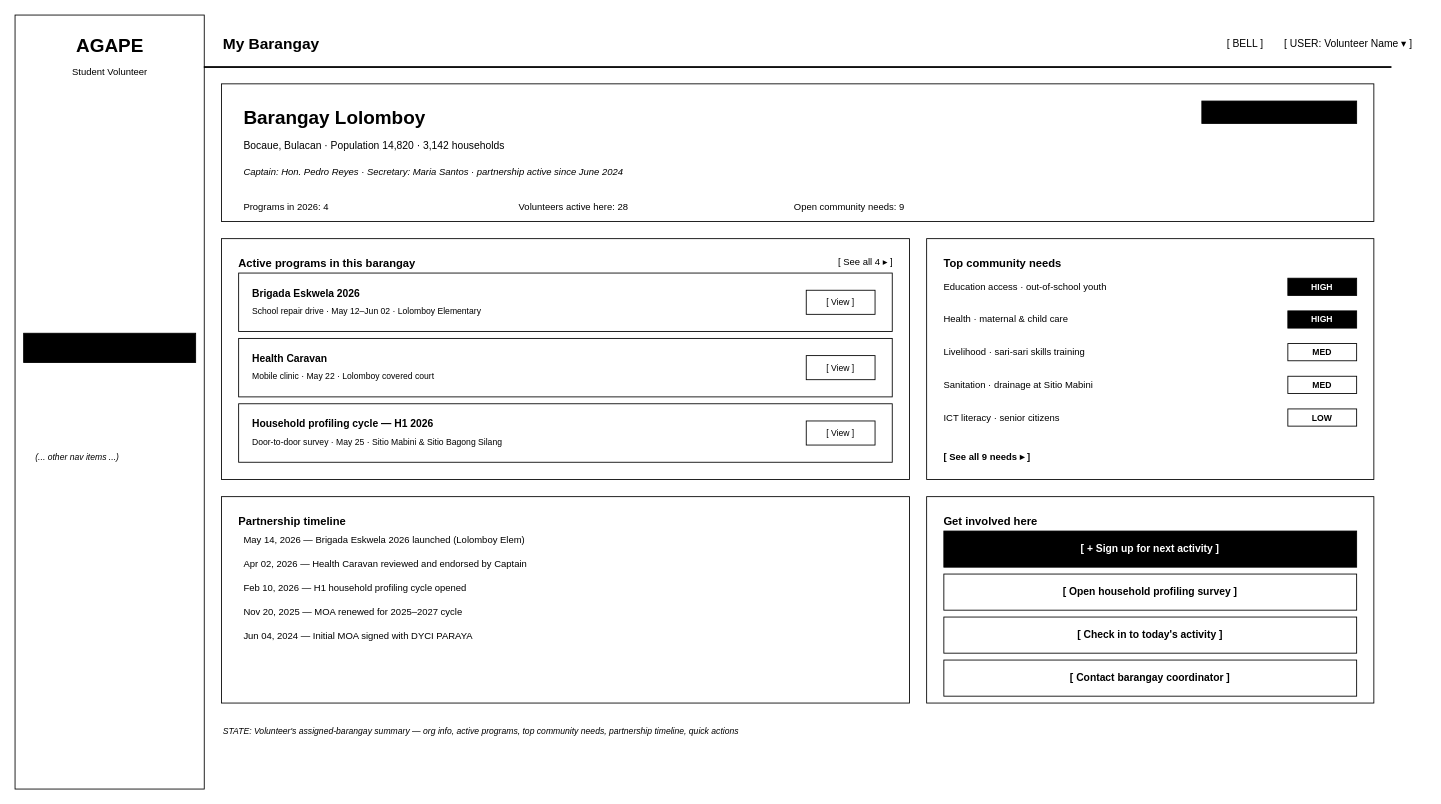
Some shapes in this 1441 by 804 pixel diagram are drawn without their labels. Here are the shapes that lost their labels. From the top down, the centre of each, then its label:
At point (1279, 111): "Active partner barangay".
At point (109, 347): "[x] My Barangay".
